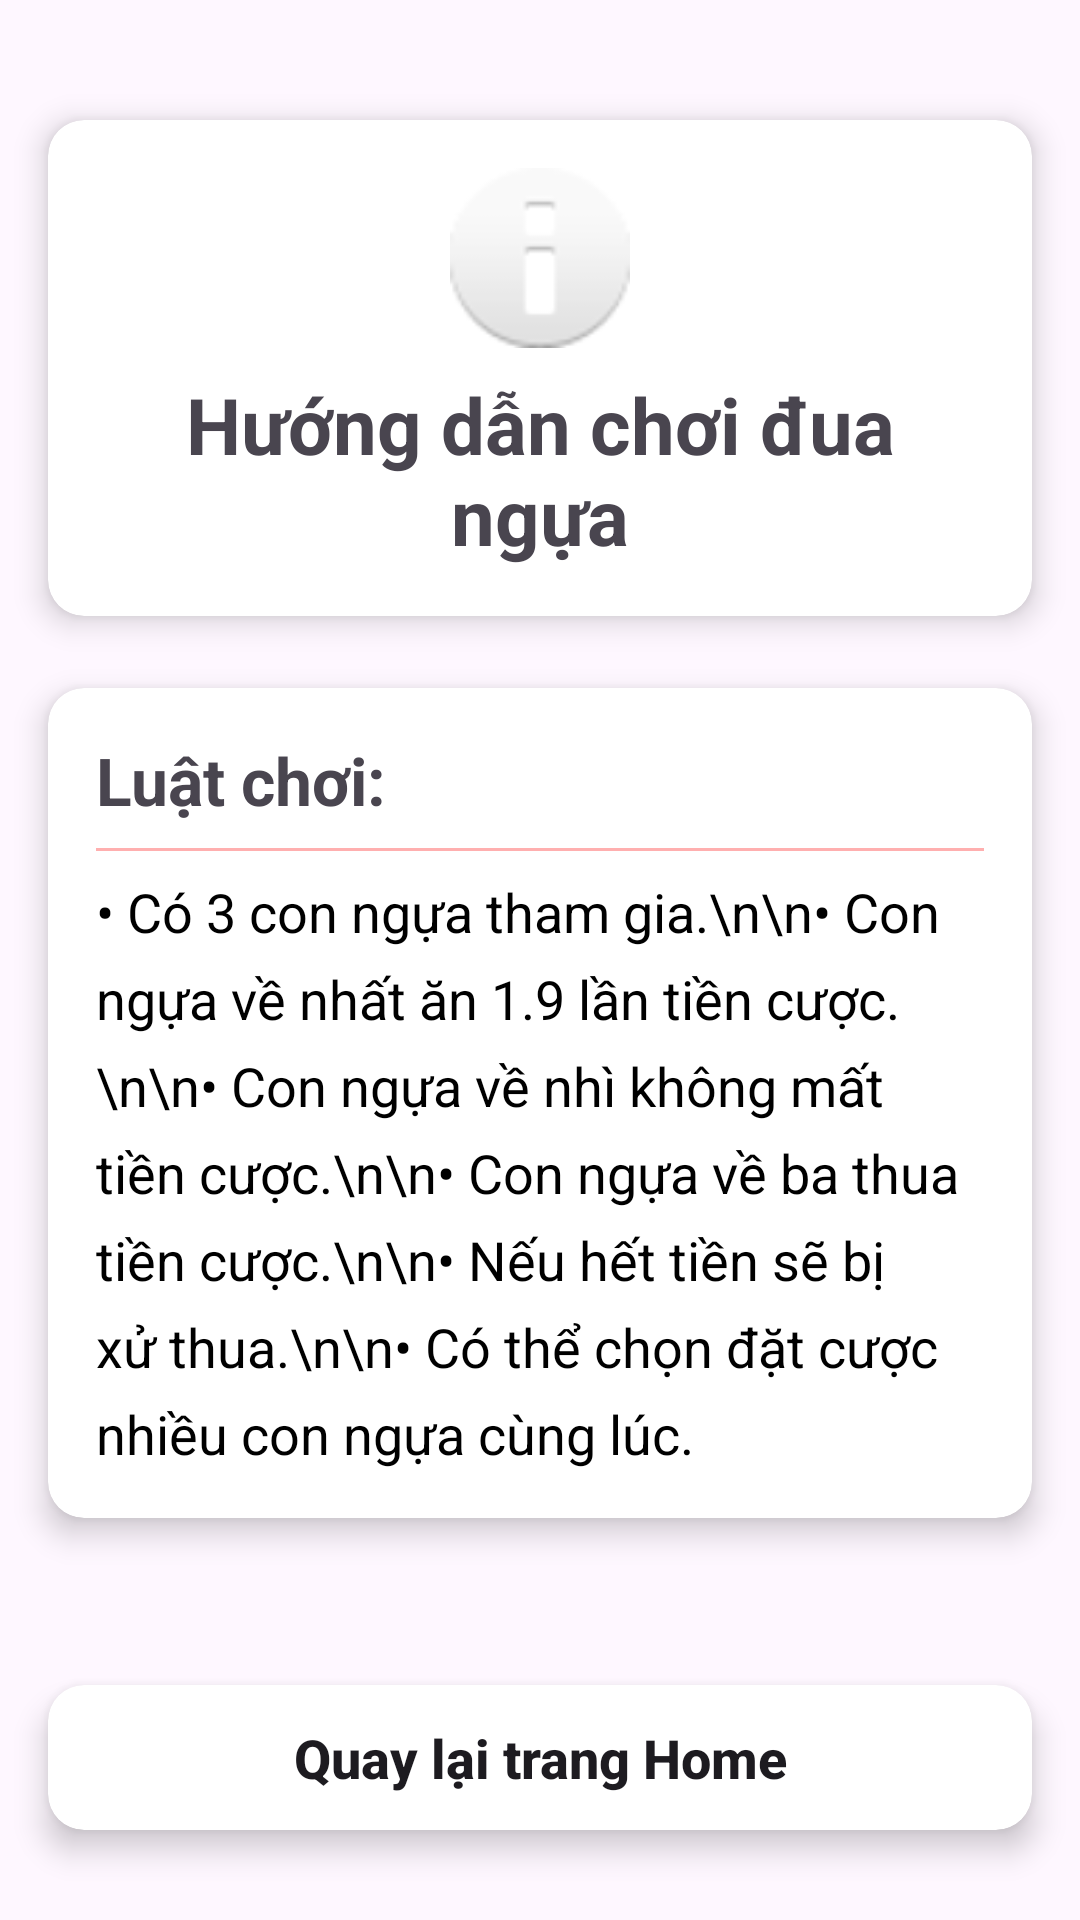

Screen size 1080 x 1920. Icon name, then its center in pixels as (x=x, y=y):
info: (x=540, y=274)
